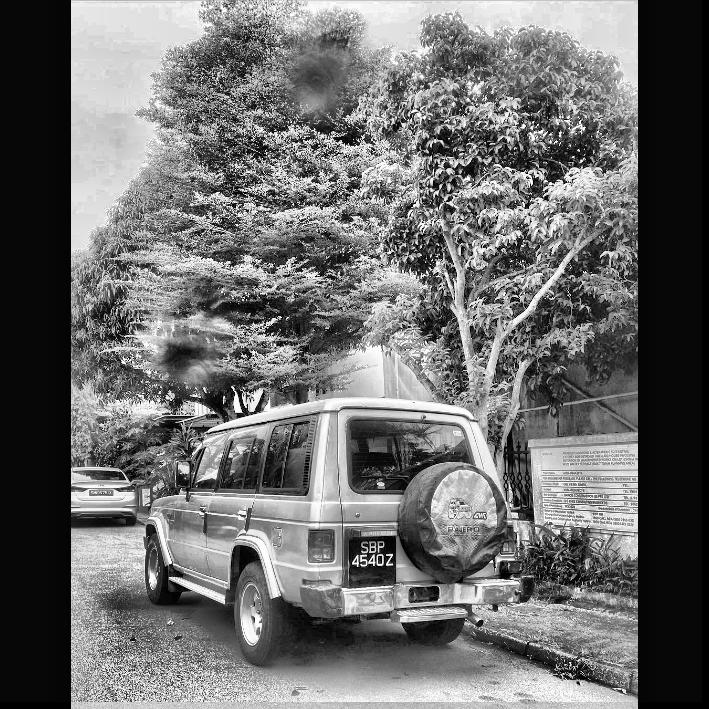License-Plates: (348, 537, 396, 569), (88, 490, 112, 494)
